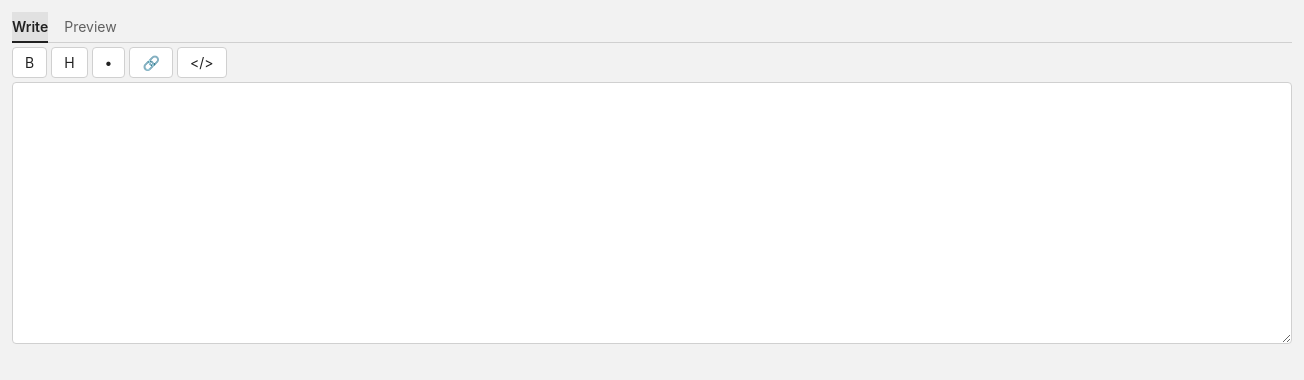
MarkdownEditor › edits text and applies toolbar actions
Type "hello" into the text box named "Guidance" at (652, 213), box [12,82,1292,344]
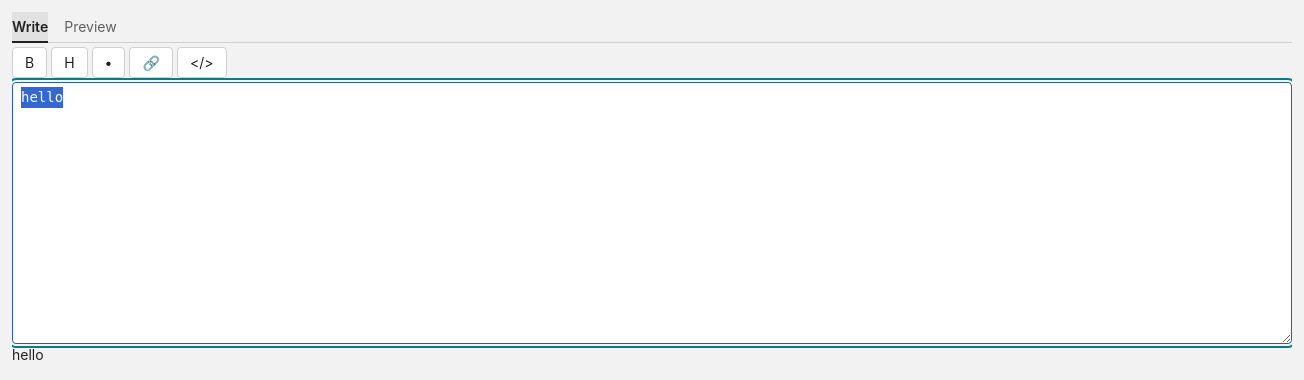
Click the button named "Bold" at (30, 62), box [12,47,47,78]
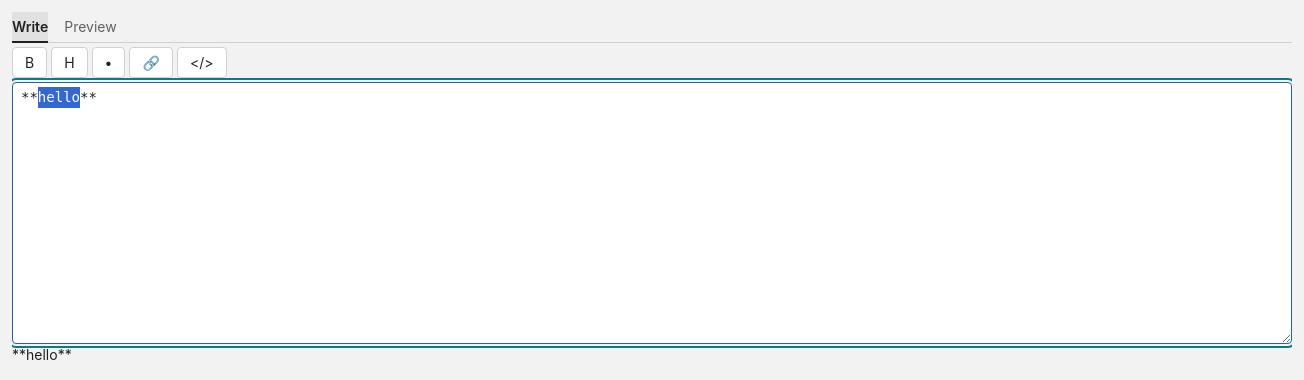
expect the text with test id "value" reads "**hello**": met, box [12,346,72,363]
